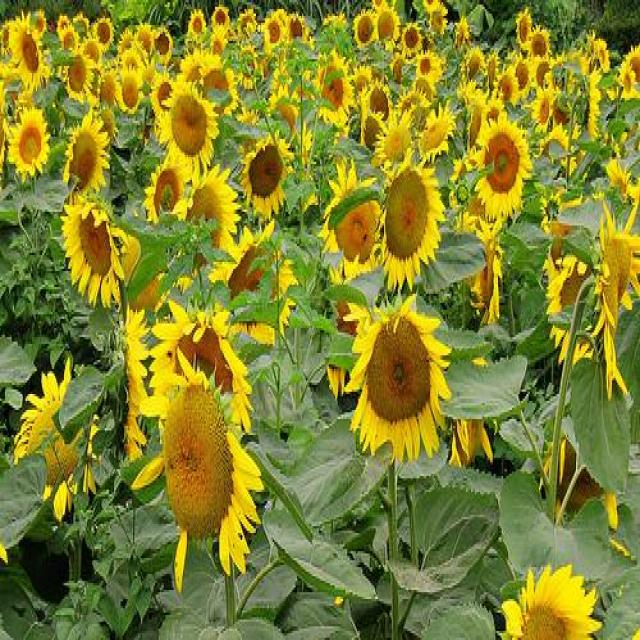sunflower: (131, 382, 262, 590), (344, 296, 450, 458), (146, 297, 256, 430), (16, 359, 100, 522), (210, 224, 297, 346), (592, 199, 640, 392), (382, 157, 444, 289), (499, 560, 599, 640), (61, 199, 132, 303), (539, 438, 621, 528), (548, 236, 599, 368), (472, 112, 532, 222), (326, 157, 384, 262), (328, 254, 367, 401), (54, 108, 111, 202), (186, 170, 242, 265), (158, 77, 218, 163), (449, 356, 493, 466), (243, 134, 291, 219), (122, 306, 148, 456), (450, 153, 495, 230), (8, 16, 51, 96), (472, 218, 504, 320), (146, 159, 193, 228), (312, 51, 355, 125), (8, 102, 50, 173), (200, 54, 240, 118), (417, 101, 456, 165), (373, 107, 411, 166), (542, 122, 576, 181), (178, 43, 222, 88), (268, 86, 300, 138), (65, 50, 93, 100), (463, 91, 486, 150), (608, 154, 640, 196), (588, 61, 604, 144), (363, 83, 392, 125), (361, 109, 388, 153), (531, 83, 556, 130), (375, 6, 399, 51), (396, 85, 428, 118), (415, 51, 443, 88), (462, 44, 485, 88), (261, 12, 288, 49), (79, 32, 105, 69), (353, 10, 378, 48), (493, 67, 517, 106), (152, 75, 174, 116), (118, 75, 142, 112), (98, 75, 120, 112), (241, 46, 260, 88), (528, 56, 554, 86), (400, 21, 422, 56), (154, 24, 173, 64), (618, 60, 636, 101), (513, 58, 532, 96), (134, 18, 154, 54), (528, 22, 550, 54), (516, 10, 534, 49), (484, 48, 500, 91), (94, 16, 113, 50), (390, 52, 409, 84), (429, 2, 448, 34), (211, 5, 231, 34), (597, 37, 612, 73), (354, 66, 372, 96), (117, 27, 133, 59), (189, 10, 206, 40), (291, 12, 309, 40), (61, 25, 78, 54), (73, 13, 89, 43), (122, 47, 141, 72), (454, 19, 470, 47), (58, 12, 71, 38), (34, 12, 47, 34)
